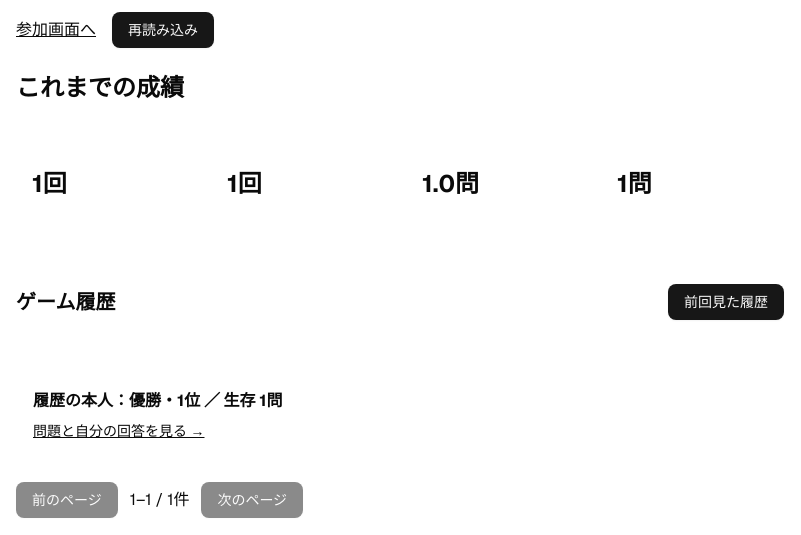
removes displayed results and navigation preference when the session expires
expect the heading "これまでの成績" is shown: met, box [16,72,184,103]
What coordinates should you click on to do the following:
click the button "再読み込み"
I would click on:
 (163, 30)
Its box is [112,12,214,48].
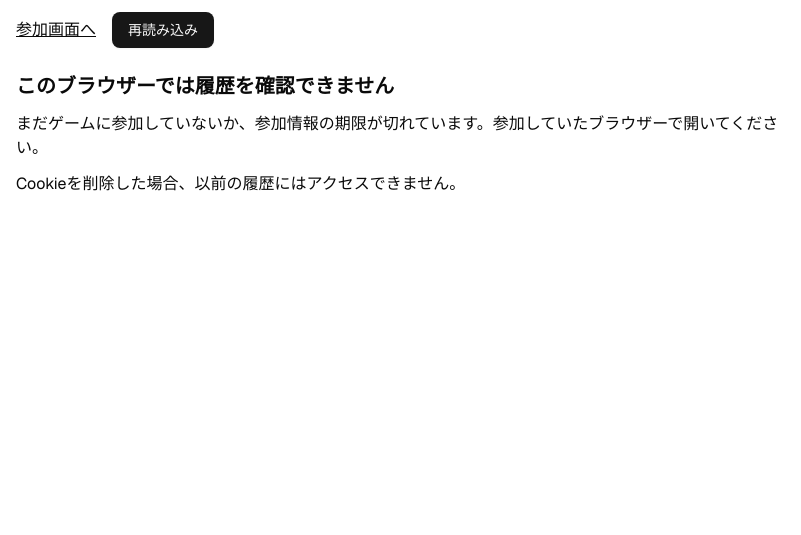
expect the heading "このブラウザーでは履歴を確認できません" is shown: met, box [16,73,394,99]
expect the heading "これまでの成績" is gone: met
